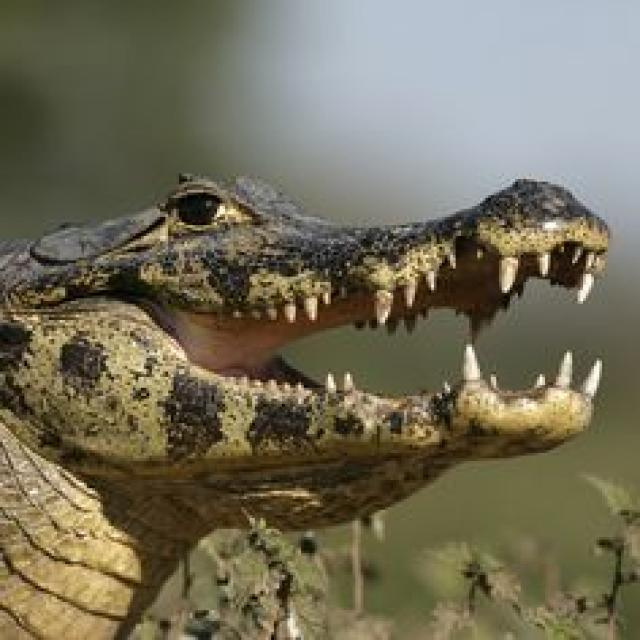Carnivorous: (0, 176, 610, 640)
